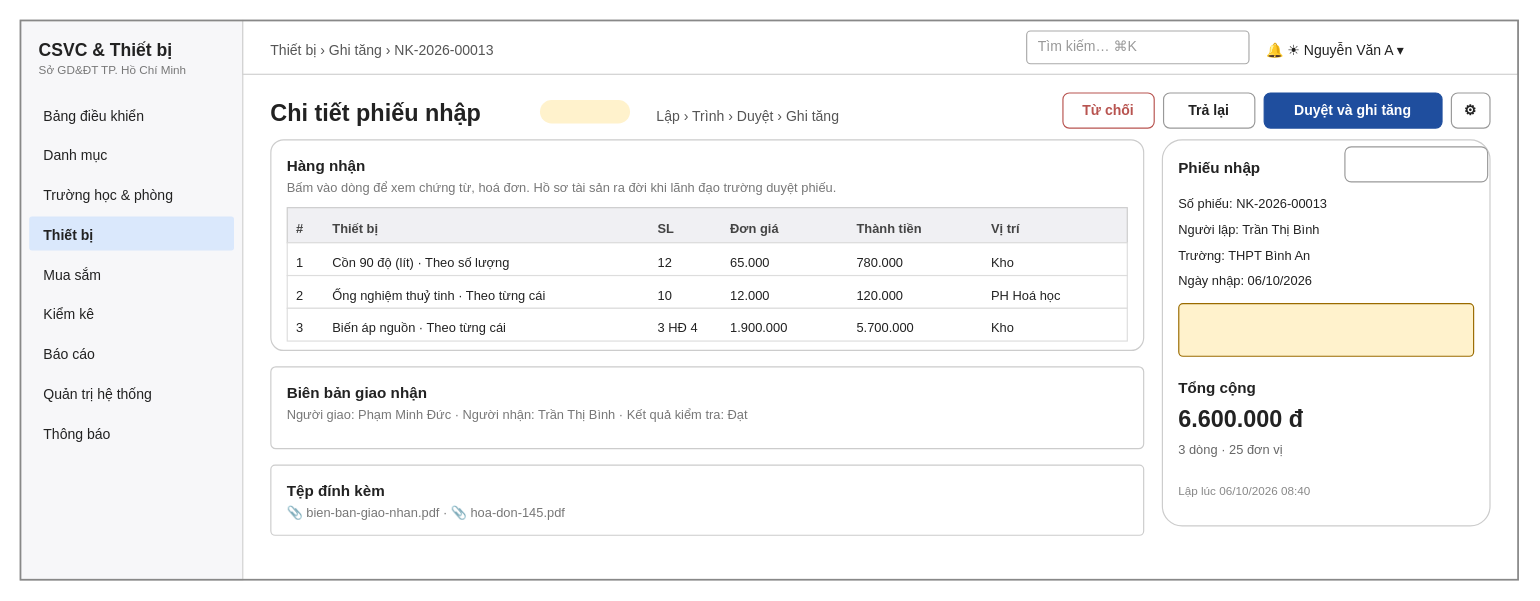
This 1540x601 diagram has some shape labels left out. Each missing label, with the box of its shape:
Chờ duyệt: (539, 99, 629, 123)
Quá trình (1): (1344, 146, 1488, 182)
Đã trình, chờ duyệt. Tài sản ra đời khi phiếu được duyệt.: (1178, 302, 1474, 356)
